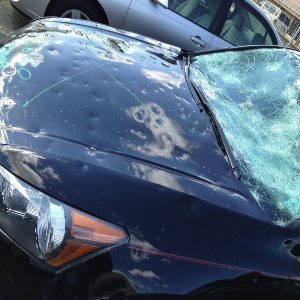bonnet: (33, 19, 207, 176)
